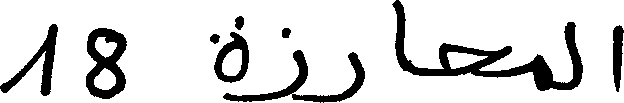1: (0, 22, 58, 96)
8: (85, 25, 127, 99)
ا: (393, 0, 407, 71), (608, 23, 622, 93)
ة: (211, 14, 248, 88)
ح: (439, 40, 513, 77)
ر: (324, 50, 366, 101)
ز: (264, 25, 308, 100)
لا: (563, 20, 584, 90)
م: (533, 51, 554, 91)
